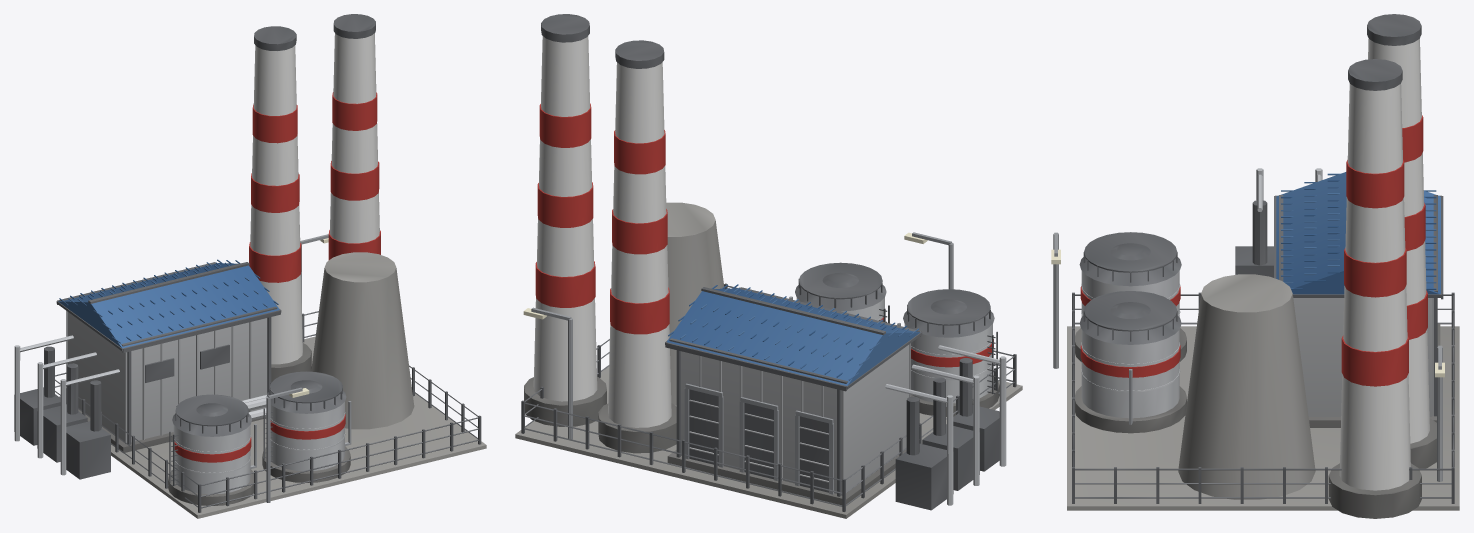
File: Power_P2.fbx
3 renders of one model, left to right at view 1: azimuth 30°, elevation 25°; view 2: azimuth 150°, elevation 25°; view 3: azimuth 270°, elevation 25°, orthographic. The views are drawn at different scales.
Visible parts, largest first — view 1: Power.Hall, Power.Stack0, Power.CoolingTowers, Power.Stack1, Power.Yard, Power.Switchyard, Power.Tank0, Power.Tank1, Power.Fence, Power.Lamp0; view 2: Power.Hall, Power.Stack0, Power.Stack1, Power.Switchyard, Power.Tank0, Power.Yard, Power.CoolingTowers, Power.Fence, Power.Tank1, Power.Lamp1, Power.Lamp0; view 3: Power.Stack1, Power.CoolingTowers, Power.Yard, Power.Hall, Power.Tank1, Power.Stack0, Power.Tank0, Power.Fence, Power.Switchyard, Power.Lamp0, Power.Lamp1.
Boxes of the visible parts, bbox=[...] form: Power.Hall: bbox=[56, 259, 281, 452]; Power.Stack0: bbox=[249, 26, 311, 382]; Power.CoolingTowers: bbox=[311, 252, 414, 429]; Power.Stack1: bbox=[328, 14, 380, 260]; Power.Yard: bbox=[111, 336, 486, 518]; Power.Switchyard: bbox=[14, 335, 119, 479]; Power.Tank0: bbox=[168, 394, 256, 505]; Power.Tank1: bbox=[262, 371, 351, 482]; Power.Fence: bbox=[55, 311, 481, 512]; Power.Lamp0: bbox=[266, 387, 309, 502]; Power.Hall: bbox=[665, 284, 922, 505]; Power.Stack0: bbox=[598, 40, 676, 453]; Power.Stack1: bbox=[524, 14, 606, 426]; Power.Switchyard: bbox=[885, 345, 1006, 510]; Power.Tank0: bbox=[897, 289, 999, 416]; Power.Yard: bbox=[515, 366, 1022, 518]; Power.CoolingTowers: bbox=[666, 202, 724, 405]; Power.Fence: bbox=[521, 283, 1016, 511]; Power.Tank1: bbox=[789, 262, 889, 323]; Power.Lamp1: bbox=[523, 307, 572, 439]; Power.Lamp0: bbox=[904, 232, 953, 289]; Power.Stack1: bbox=[1328, 59, 1421, 518]; Power.CoolingTowers: bbox=[1178, 274, 1315, 499]; Power.Yard: bbox=[1067, 326, 1459, 510]; Power.Hall: bbox=[1274, 172, 1443, 427]; Power.Tank1: bbox=[1075, 291, 1186, 433]; Power.Stack0: bbox=[1367, 14, 1436, 468]; Power.Tank0: bbox=[1075, 232, 1186, 361]; Power.Fence: bbox=[1072, 292, 1454, 503]; Power.Switchyard: bbox=[1235, 168, 1322, 277]; Power.Lamp0: bbox=[1051, 232, 1060, 368]; Power.Lamp1: bbox=[1435, 345, 1444, 481].
Bounding box in the file's own units: 3333 × 2921 × 2495.
